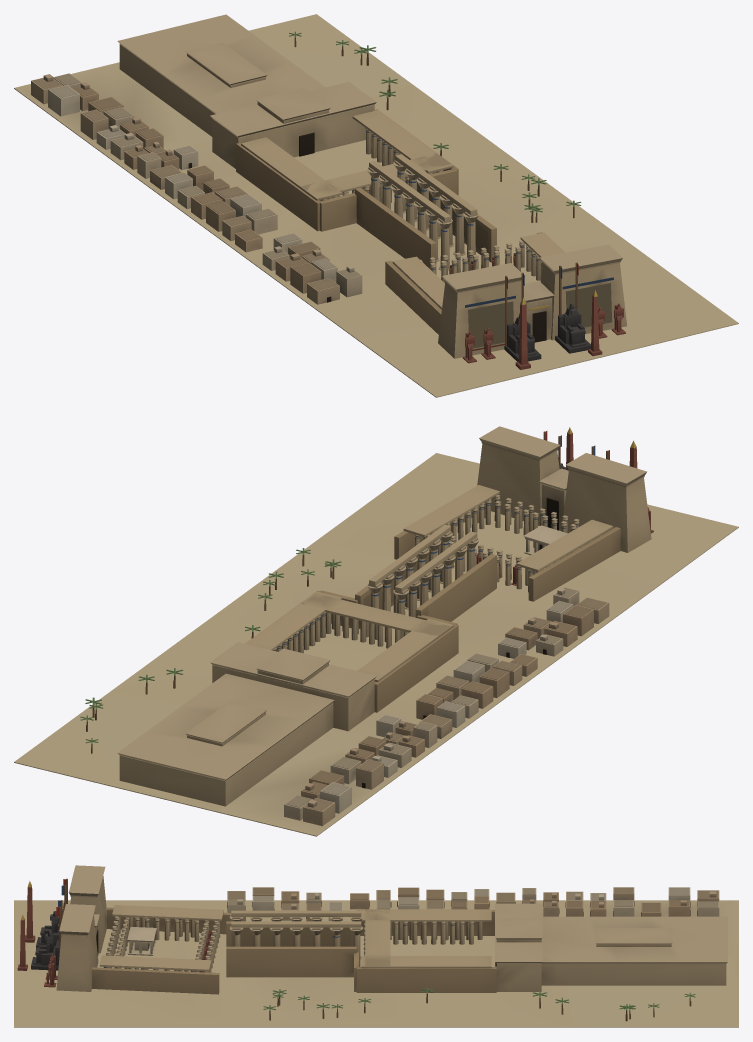
Rendered from luxor-temple.glb.
3 views of the same model, one above another, from view 1: azimuth 30°, elevation 25°; view 2: azimuth 150°, elevation 25°; view 3: azimuth 270°, elevation 25° (orthographic). The views are drawn at different scales.
Visible parts, largest first — view 1: p0_ground, p1_temple, p3_houses, p2_colonnade; view 2: p0_ground, p1_temple, p3_houses, p2_colonnade; view 3: p1_temple, p0_ground, p3_houses, p2_colonnade.
Boxes of the visible parts, <box> form: p0_ground: <box>14,14,738,397</box>; p1_temple: <box>117,14,626,358</box>; p3_houses: <box>31,31,625,369</box>; p2_colonnade: <box>241,110,478,270</box>; p0_ground: <box>14,453,738,836</box>; p1_temple: <box>117,426,651,806</box>; p3_houses: <box>80,427,653,826</box>; p2_colonnade: <box>245,524,478,681</box>; p1_temple: <box>56,865,727,994</box>; p0_ground: <box>14,900,738,1027</box>; p3_houses: <box>17,881,719,1019</box>; p2_colonnade: <box>229,909,491,968</box>.
Size of the model in its own units: 120 by 28.32 by 290.
